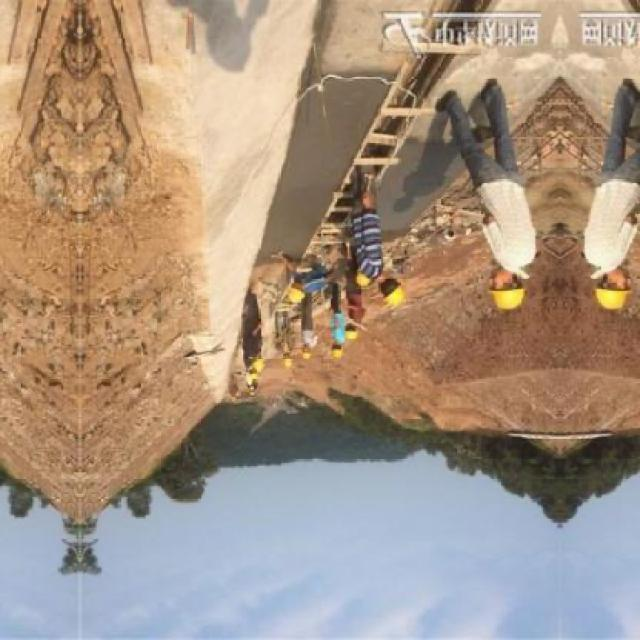con casco: (560, 246, 640, 330), (364, 252, 428, 320), (472, 279, 529, 316)
